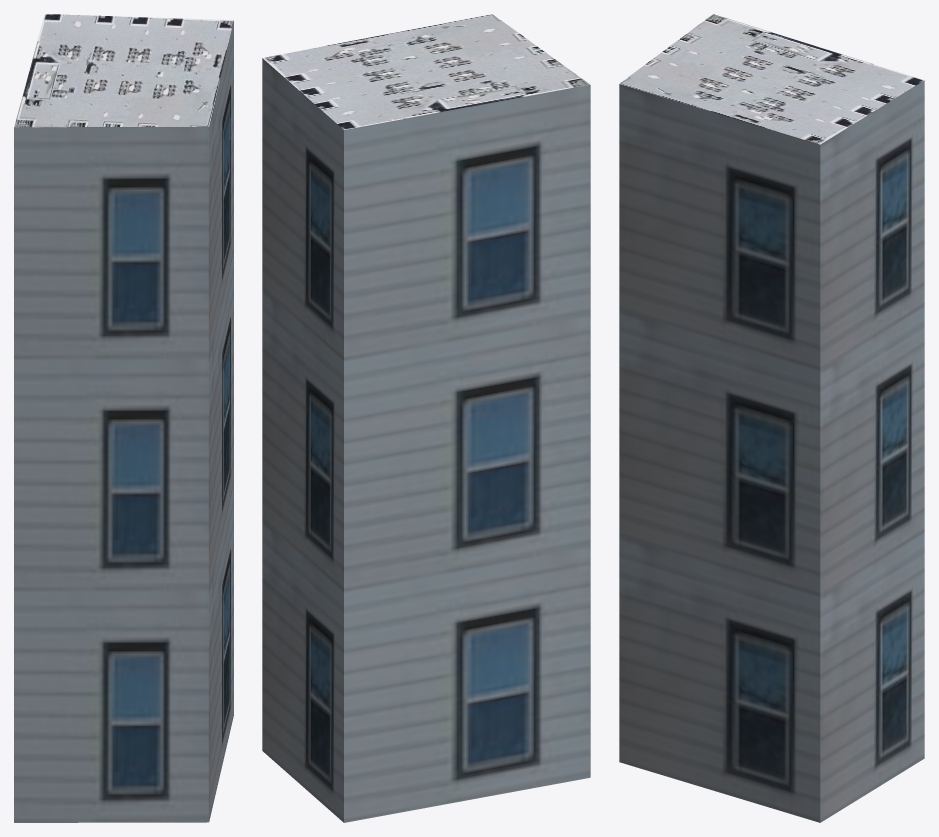
Rendered from ResTex__3895.fbx.
3 views of the same model, side by side, from view 1: azimuth 30°, elevation 25°; view 2: azimuth 150°, elevation 25°; view 3: azimuth 270°, elevation 25° (orthographic). The views are drawn at different scales.
Parts seen in each view (by area): view 1: CityEngineMaterial_18_m, CityEngineMaterial_4_m; view 2: CityEngineMaterial_18_m, CityEngineMaterial_4_m; view 3: CityEngineMaterial_18_m, CityEngineMaterial_4_m.
Part boxes in pixels (x1=…): CityEngineMaterial_18_m: x1=14, y1=20, x2=233, y2=822; CityEngineMaterial_4_m: x1=14, y1=14, x2=233, y2=127; CityEngineMaterial_18_m: x1=262, y1=58, x2=590, y2=822; CityEngineMaterial_4_m: x1=263, y1=14, x2=590, y2=129; CityEngineMaterial_18_m: x1=619, y1=80, x2=924, y2=822; CityEngineMaterial_4_m: x1=619, y1=14, x2=924, y2=144.
Size of the model in its own units: 3.72 by 9 by 3.67.
Materials: 2 (2 with a texture image).
